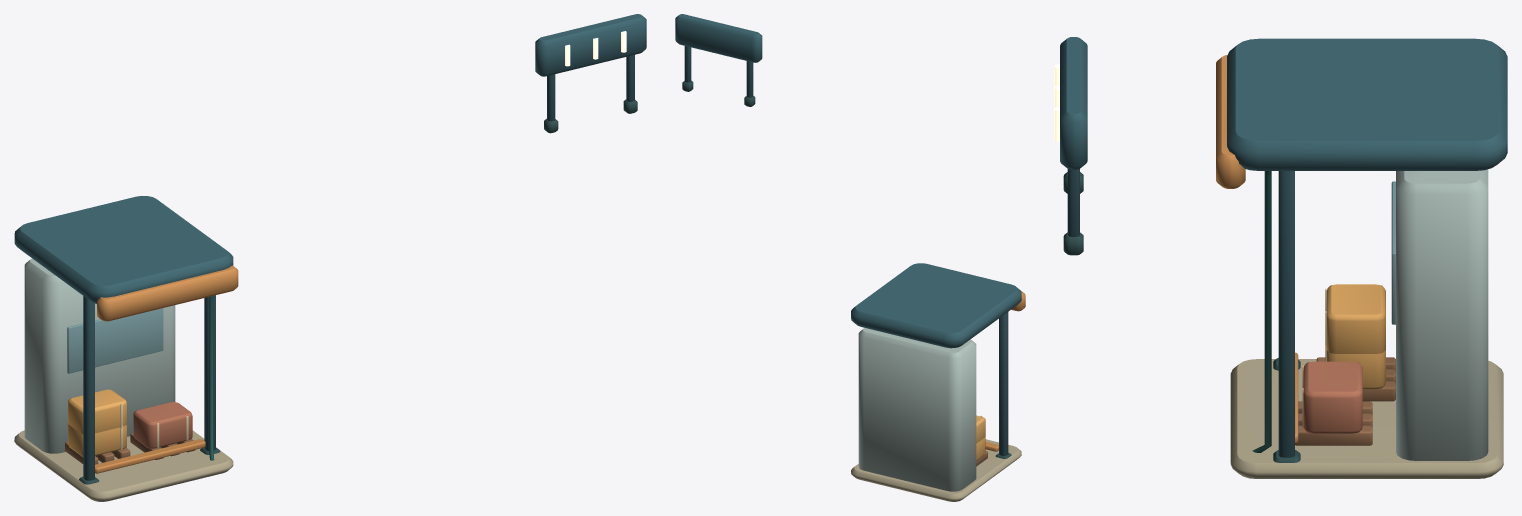
File: harbor_coldstore_4.glb
3 renders of one model, left to right at view 1: azimuth 30°, elevation 25°; view 2: azimuth 150°, elevation 25°; view 3: azimuth 270°, elevation 25°, orthographic. The views are drawn at different scales.
Visible parts, largest first — view 1: HarborColdstore4; view 2: HarborColdstore4; view 3: HarborColdstore4.
Part boxes in pixels (x1=…): HarborColdstore4: x1=14, y1=14, x2=646, y2=501; HarborColdstore4: x1=675, y1=14, x2=1025, y2=501; HarborColdstore4: x1=1054, y1=37, x2=1507, y2=478.
Bounding box in the file's own units: 8.17 × 6.37 × 4.12.
